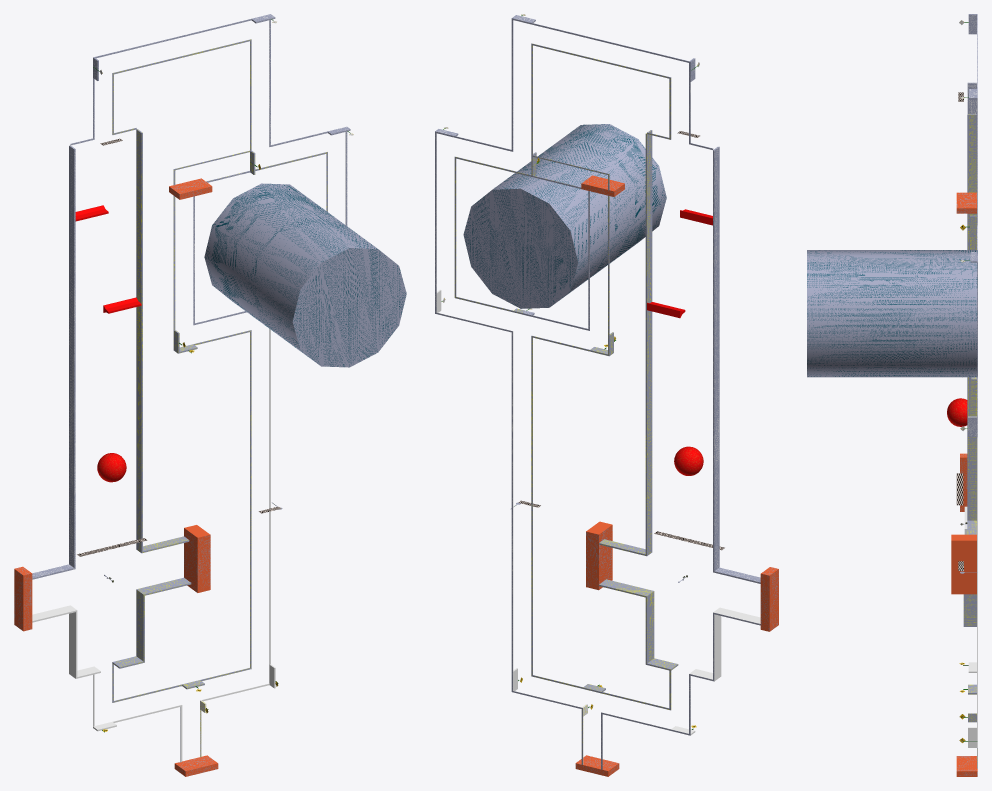
The model's file is map.obj.
3 views of the same model, side by side, from view 1: azimuth 30°, elevation 25°; view 2: azimuth 150°, elevation 25°; view 3: azimuth 270°, elevation 25° (orthographic). The views are drawn at different scales.
Parts seen in each view (by area): view 1: Mesh54 Model, Mesh55 Model, Mesh56 Model, Mesh5 ball1 Model; view 2: Mesh54 Model, Mesh55 Model, Mesh56 Model, Mesh5 ball1 Model, Mesh2 Group2 Model, Mesh1 Group1 Model; view 3: Mesh54 Model, Mesh55 Model, Mesh56 Model, Mesh5 ball1 Model, Mesh1 Group1 Model, Mesh2 Group2 Model.
Part boxes in pixels (<box>): Mesh54 Model: <box>204,183,406,367</box>; Mesh55 Model: <box>112,39,327,702</box>; Mesh56 Model: <box>14,14,350,761</box>; Mesh5 ball1 Model: <box>97,453,126,482</box>; Mesh54 Model: <box>463,124,666,308</box>; Mesh55 Model: <box>454,43,678,710</box>; Mesh56 Model: <box>435,15,778,769</box>; Mesh5 ball1 Model: <box>674,446,703,475</box>; Mesh2 Group2 Model: <box>575,755,619,776</box>; Mesh1 Group1 Model: <box>581,175,624,196</box>; Mesh54 Model: <box>807,250,977,377</box>; Mesh55 Model: <box>951,114,976,694</box>; Mesh56 Model: <box>960,14,977,768</box>; Mesh5 ball1 Model: <box>947,398,967,426</box>; Mesh1 Group1 Model: <box>956,192,976,213</box>; Mesh2 Group2 Model: <box>956,756,977,776</box>.
Bounding box in the file's own units: 13.99 × 29.38 × 6.42.
Materials: 29 (6 with a texture image).
